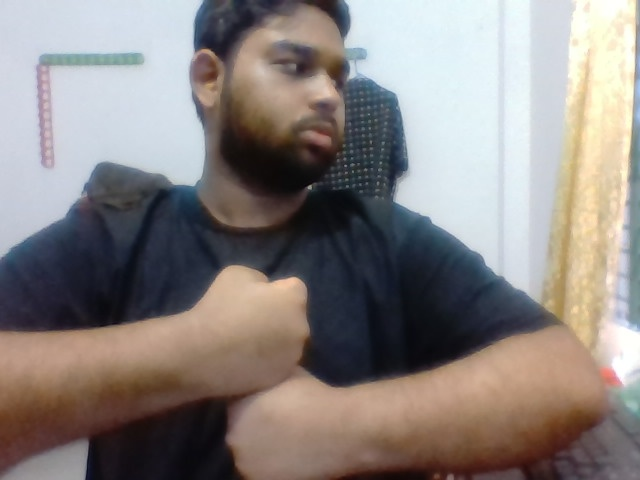G: (186, 245, 346, 480)
